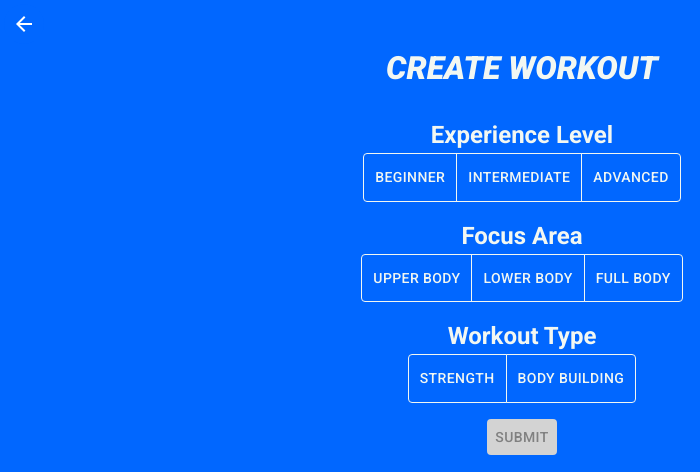
Test: Form page › should disable Submit Button if any form questions are unanswered
Expected: the button "Submit" is disabled, [487,419,557,455]
Note: Select Intermediate Level
What coordinates should you click on to do the following:
click the button "Intermediate"
I would click on:
 (519, 177)
Its box is [456,153,582,202].
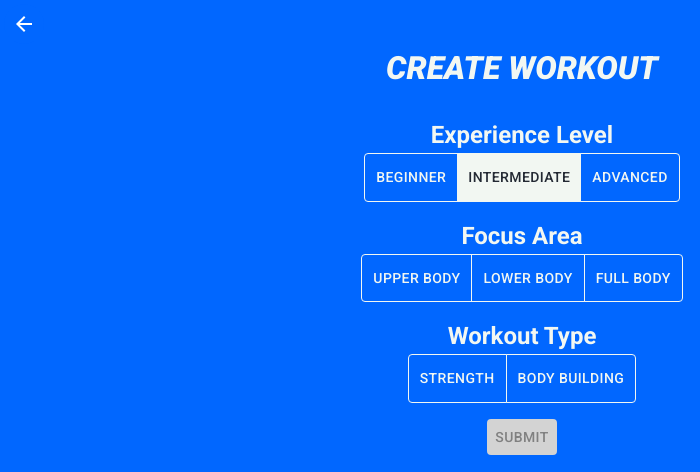
Expected: the button "Submit" is disabled, [487,419,557,455]
Note: Select Upper Body Focus Area
What coordinates should you click on to do the following:
click the button "Upper Body"
I would click on:
 (417, 278)
Its box is [361,254,472,302].
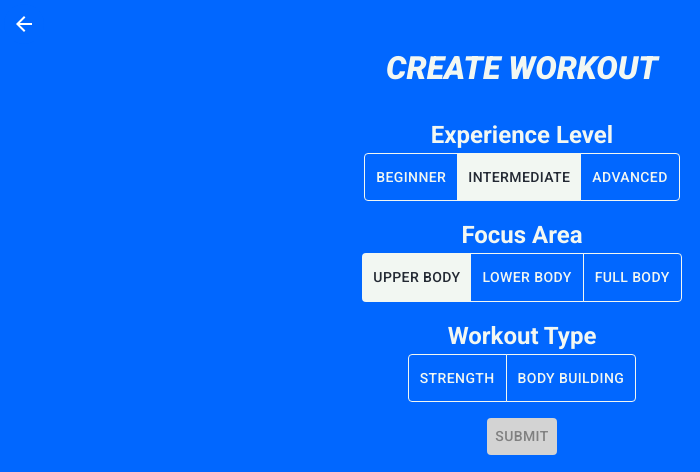
Expected: the button "Submit" is disabled, [487,418,557,455]
Note: Select Strength type
What coordinates should you click on to do the following:
click the button "Strength"
I would click on:
 (457, 378)
Its box is [408,354,507,402].
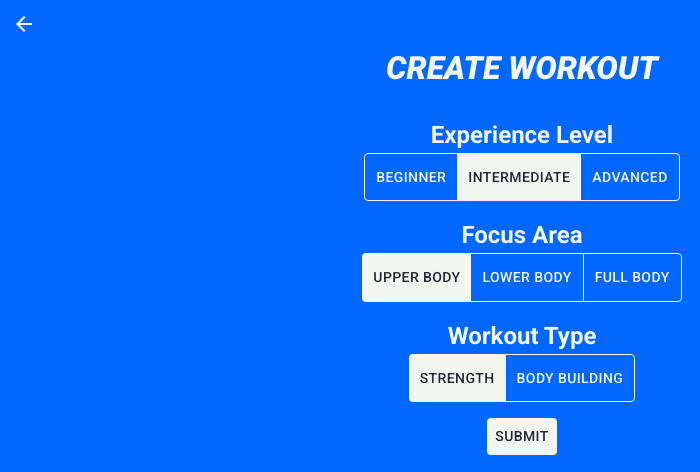
Now the button "Submit" is enabled, box [487,418,557,455]
Note: Deselect Upper Body Focus Area
What coordinates should you click on to do the following:
click the button "Upper Body"
I would click on:
 (417, 278)
Its box is [362,253,472,302].
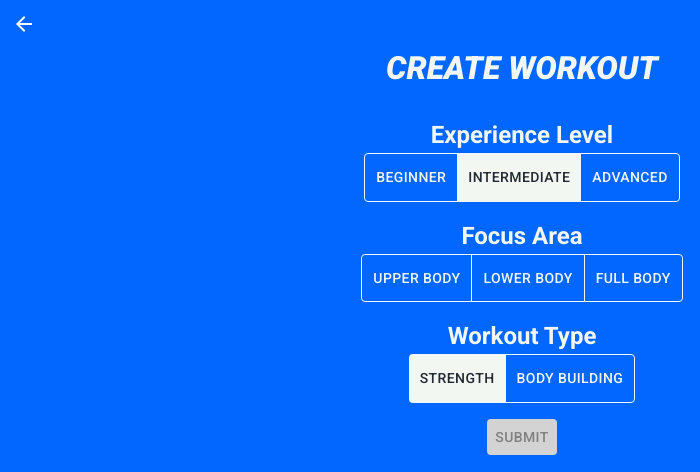
Now the button "Submit" is disabled, box [487,419,557,455]
